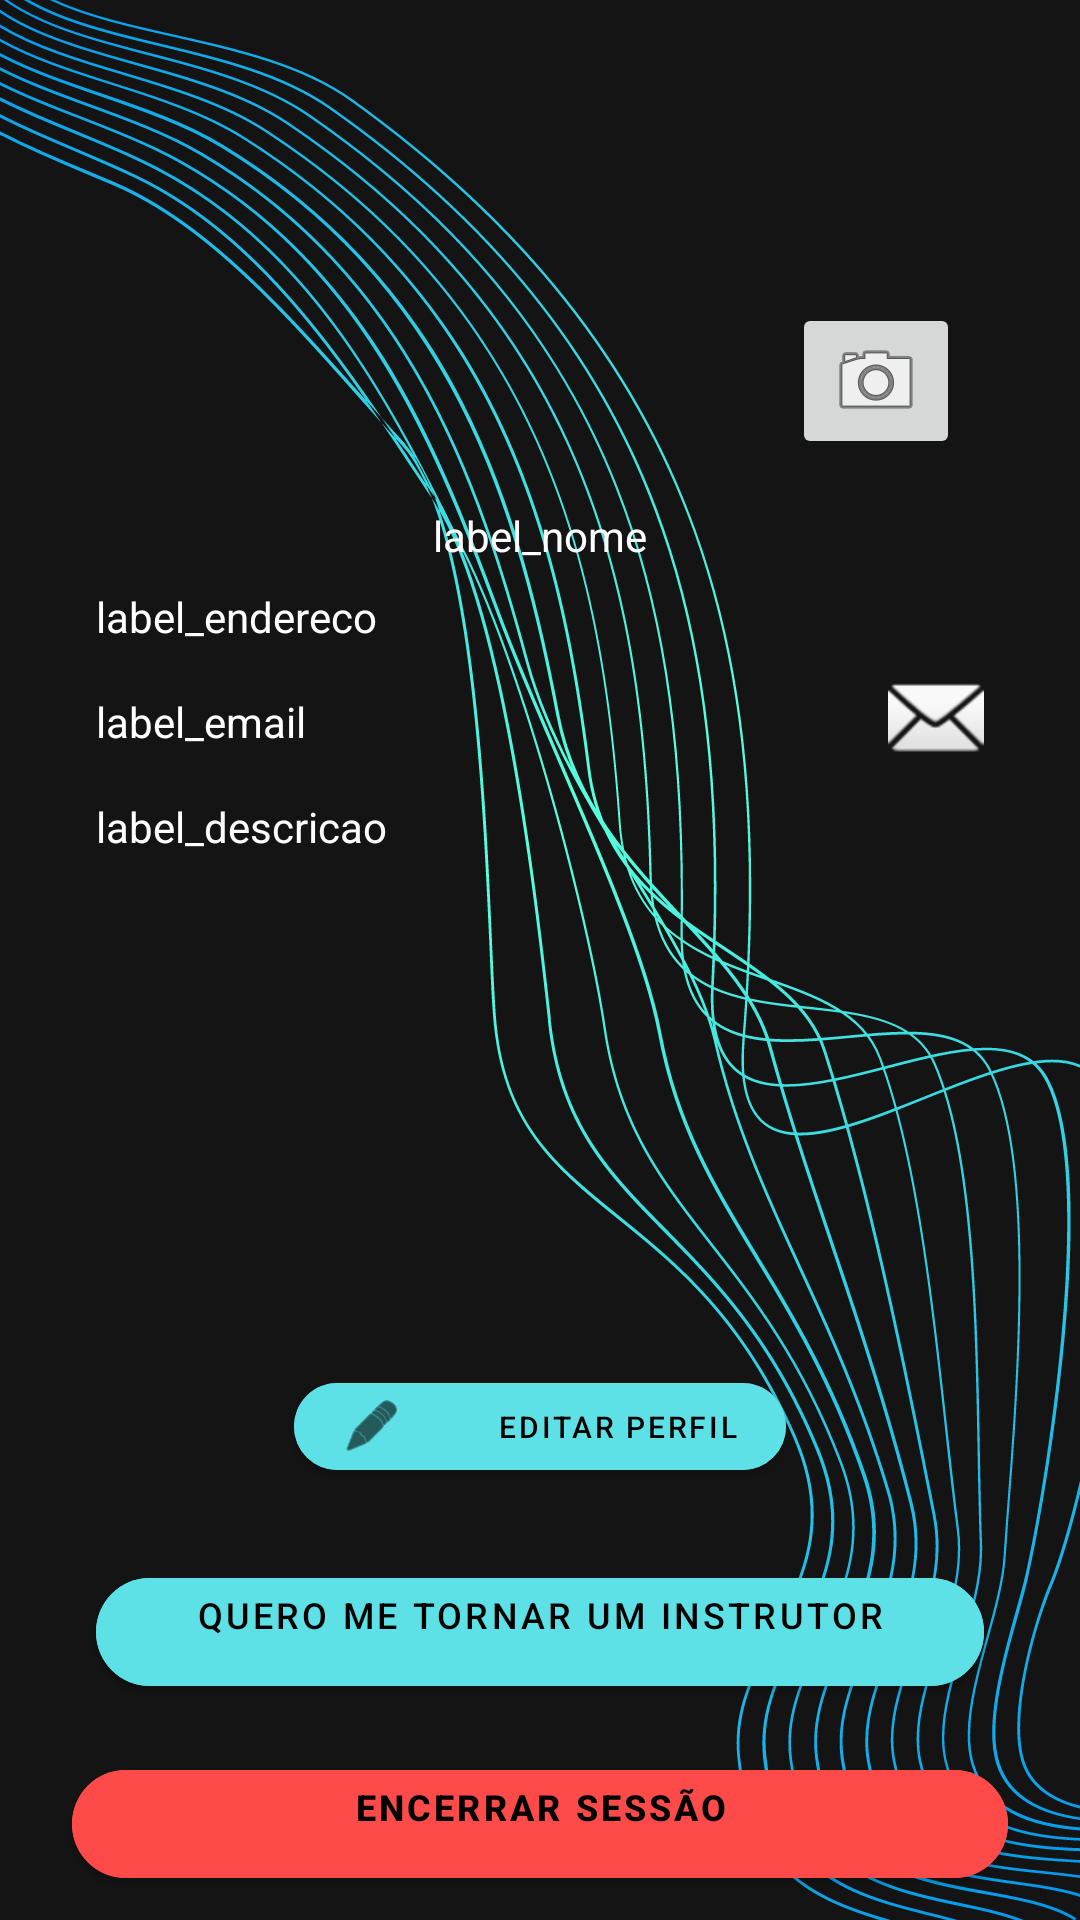

Icons on this 1080x1920 Android screen, each with the point to tap as point (x, y):
camera: point (876, 381)
